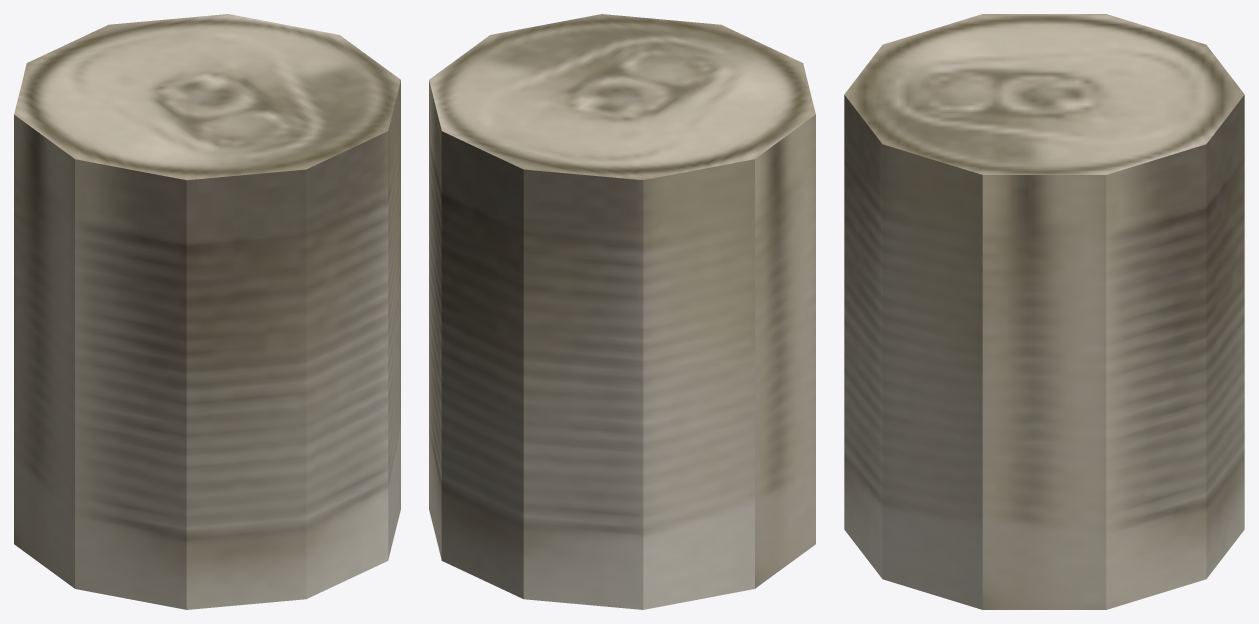
File: soup_can_1.fbx
3 views of the same model, side by side, from view 1: azimuth 30°, elevation 25°; view 2: azimuth 150°, elevation 25°; view 3: azimuth 270°, elevation 25° (orthographic).
Visible parts, largest first — view 1: Soup Can; view 2: Soup Can; view 3: Soup Can.
Part boxes in pixels (left/top/right/bottom): Soup Can: left=14, top=14, right=400, bottom=609; Soup Can: left=429, top=14, right=815, bottom=609; Soup Can: left=844, top=14, right=1244, bottom=609.
Bounding box in the file's own units: 0.1522 × 0.16 × 0.1918.
